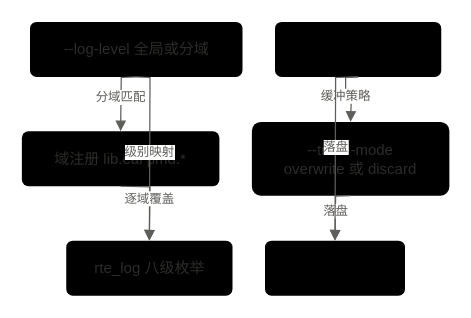
The diagram is 471 pixels wide and 318 high, and some of its shapes have lost their labels. The shapes that lost their labels are listed below. From the top down, each one's box as (x1, y1, x2, y2) in pixels, then its label:
(274, 21, 441, 77): --trace 正则选点
(264, 239, 405, 296): CTF 文件输出
